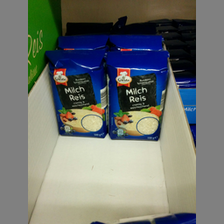rice: (106, 50, 171, 142), (45, 49, 108, 138)
